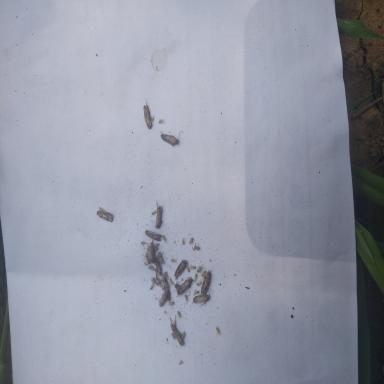pbw: (173, 276, 197, 296), (170, 315, 184, 346), (151, 199, 164, 229), (159, 130, 183, 146), (192, 288, 212, 307), (143, 98, 154, 128), (201, 270, 211, 295), (174, 259, 187, 278), (96, 210, 113, 222), (144, 230, 162, 241), (162, 279, 171, 301), (158, 290, 168, 307), (148, 242, 154, 263), (155, 259, 162, 275)
